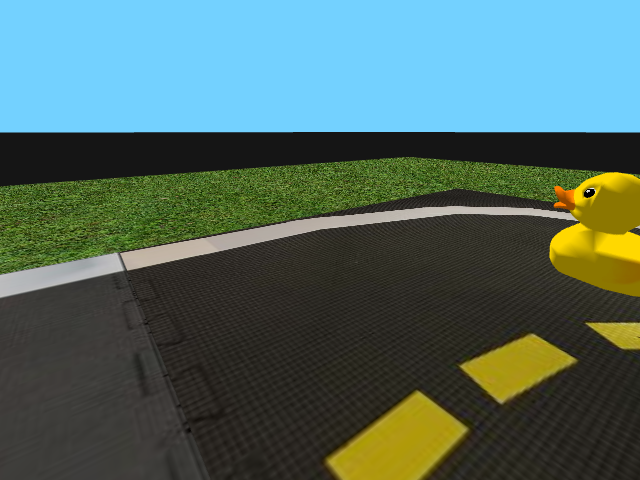Duckie: (545, 170, 640, 303)
